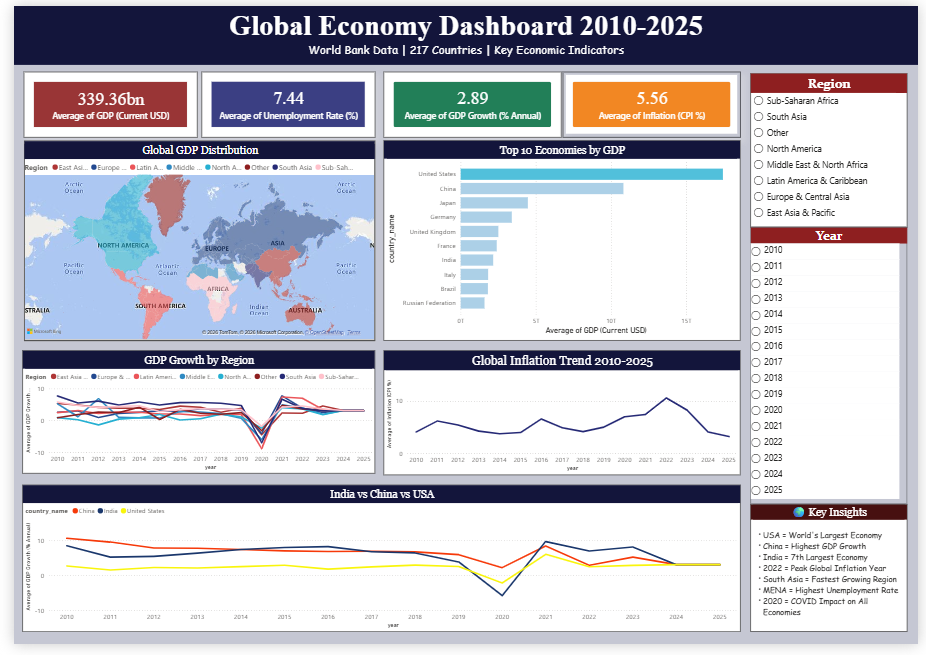

What the dashboard file says about the page in this screenshot:
{"tool":"powerbi","page":{"name":"Page 1","canvas":[1700,1200],"ordinal":0},"visuals":[{"type":"cardVisual","fields":{"Data":["Avg(world_bank_data_2025.GDP (Current USD))"]},"box":[18.4,123.7,326.3,123.7],"z":0},{"type":"cardVisual","fields":{"Data":["Avg(world_bank_data_2025.GDP Growth (% Annual))"]},"box":[694.7,123.7,334.2,123.7],"z":1000},{"type":"cardVisual","fields":{"Data":["Avg(world_bank_data_2025.Inflation (CPI %))"]},"box":[1031.6,123.7,334.2,123.7],"z":2000},{"type":"cardVisual","fields":{"Data":["Avg(world_bank_data_2025.Unemployment Rate (%))"]},"box":[352.6,123.7,326.3,123.7],"z":3000},{"type":"filledMap","title":"Global GDP Distribution","fields":{"Category":["world_bank_data_2025.country_name"],"Series":["world_bank_data_2025.Region"]},"box":[18.4,252.6,660.5,376.3],"z":4000},{"type":"clusteredBarChart","title":"Top 10 Economies by GDP","fields":{"Category":["world_bank_data_2025.country_name"],"Y":["Avg(world_bank_data_2025.GDP (Current USD))"]},"box":[694.7,252.6,671.1,376.3],"z":5000},{"type":"lineChart","title":"GDP Growth by Region","fields":{"Category":["world_bank_data_2025.year"],"Y":["Avg(world_bank_data_2025.GDP Growth (% Annual))"],"Series":["world_bank_data_2025.Region"]},"box":[15.8,647.4,663.2,231.6],"z":6000},{"type":"lineChart","title":"Global Inflation Trend 2010-2025","fields":{"Category":["world_bank_data_2025.year"],"Y":["Avg(world_bank_data_2025.Inflation (CPI %))"]},"box":[694.7,647.4,671.1,234.2],"z":7000},{"type":"lineChart","title":"India vs China vs USA","fields":{"Category":["world_bank_data_2025.year"],"Series":["world_bank_data_2025.country_name"],"Y":["Avg(world_bank_data_2025.GDP Growth (% Annual))"]},"box":[15.8,900,1350,276.3],"z":8000},{"type":"listSlicer","fields":{"Values":["world_bank_data_2025.Region"]},"box":[1384.2,126.3,294.7,289.5],"z":9000},{"type":"textbox","box":[0,0,1700,110.5],"z":10000},{"type":"listSlicer","title":"Year","fields":{"Values":["world_bank_data_2025.year"]},"box":[1384.2,415.8,294.7,521.1],"z":11000},{"type":"textbox","title":"🌍 Key Insights ","box":[1384.2,936.8,294.7,239.5],"z":12000}]}

Visuals, with their boxes in screenshot pixels (x1, y1, x2, y2), scaled from the page's 1700x1200 canvas onto the 926x655 screenshot:
cardVisual - Avg(world_bank_data_2025.GDP (Current USD)): locate(10, 68, 188, 135)
cardVisual - Avg(world_bank_data_2025.GDP Growth (% Annual)): locate(378, 68, 560, 135)
cardVisual - Avg(world_bank_data_2025.Inflation (CPI %)): locate(562, 68, 744, 135)
cardVisual - Avg(world_bank_data_2025.Unemployment Rate (%)): locate(192, 68, 370, 135)
"Global GDP Distribution" filledMap: locate(10, 138, 370, 343)
"Top 10 Economies by GDP" clusteredBarChart: locate(378, 138, 744, 343)
"GDP Growth by Region" lineChart: locate(9, 353, 370, 480)
"Global Inflation Trend 2010-2025" lineChart: locate(378, 353, 744, 481)
"India vs China vs USA" lineChart: locate(9, 491, 744, 642)
listSlicer - world_bank_data_2025.Region: locate(754, 69, 915, 227)
textbox: locate(0, 0, 925, 60)
"Year" listSlicer: locate(754, 227, 915, 511)
"🌍 Key Insights " textbox: locate(754, 511, 915, 642)
